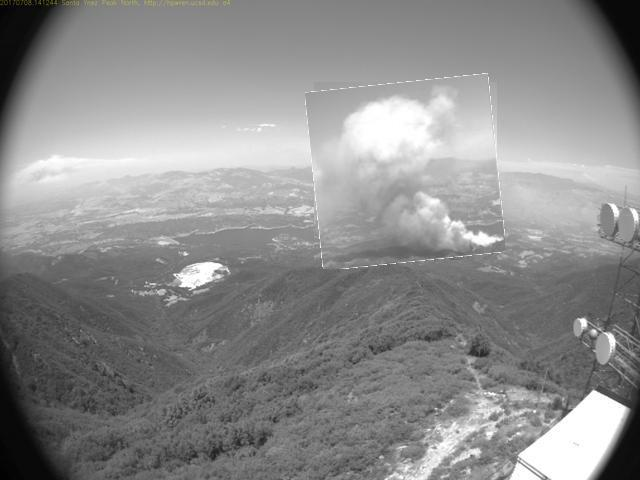smoke: (311, 79, 503, 267)
